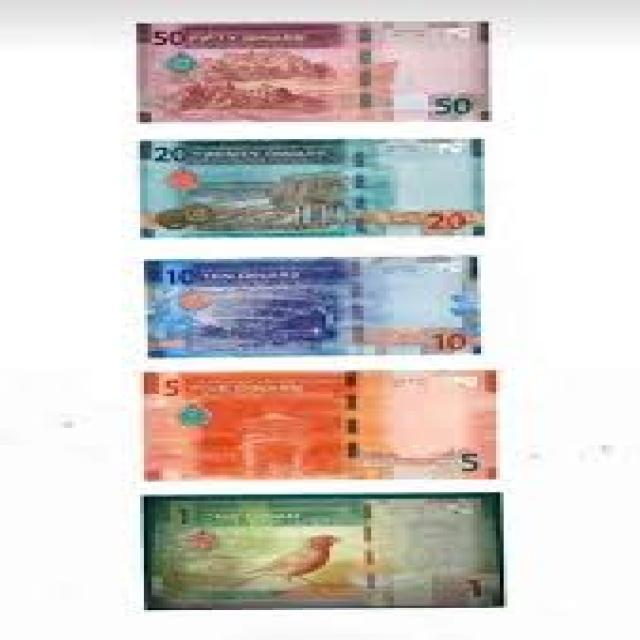1-dinar: (140, 493, 500, 610)
10-dinar: (137, 253, 490, 359)
20-dinar: (134, 142, 490, 234)
5-dinar: (132, 367, 510, 475)
50-dinar: (130, 18, 500, 122)
